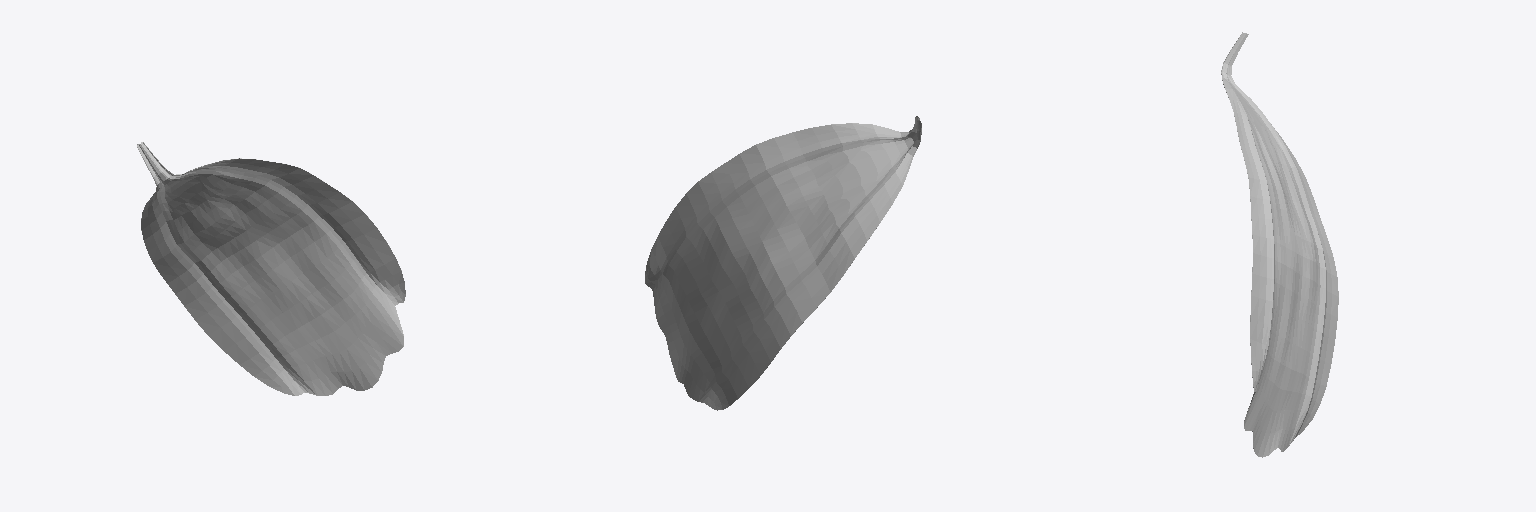
3 views of the same model, side by side, from view 1: azimuth 30°, elevation 25°; view 2: azimuth 150°, elevation 25°; view 3: azimuth 270°, elevation 25° (orthographic).
Visible parts, largest first — view 1: Mesh_body_21; view 2: Mesh_body_21; view 3: Mesh_body_21.
Part boxes in pixels (bbox=[...]): Mesh_body_21: bbox=[137, 142, 405, 395]; Mesh_body_21: bbox=[645, 116, 921, 410]; Mesh_body_21: bbox=[1221, 32, 1338, 457].
Size of the model in its own units: 0.001 by 0.0012 by 0.0004.